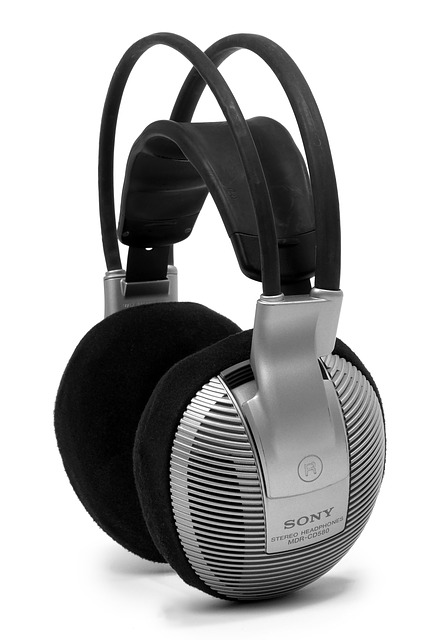headphones: (54, 32, 387, 607)
